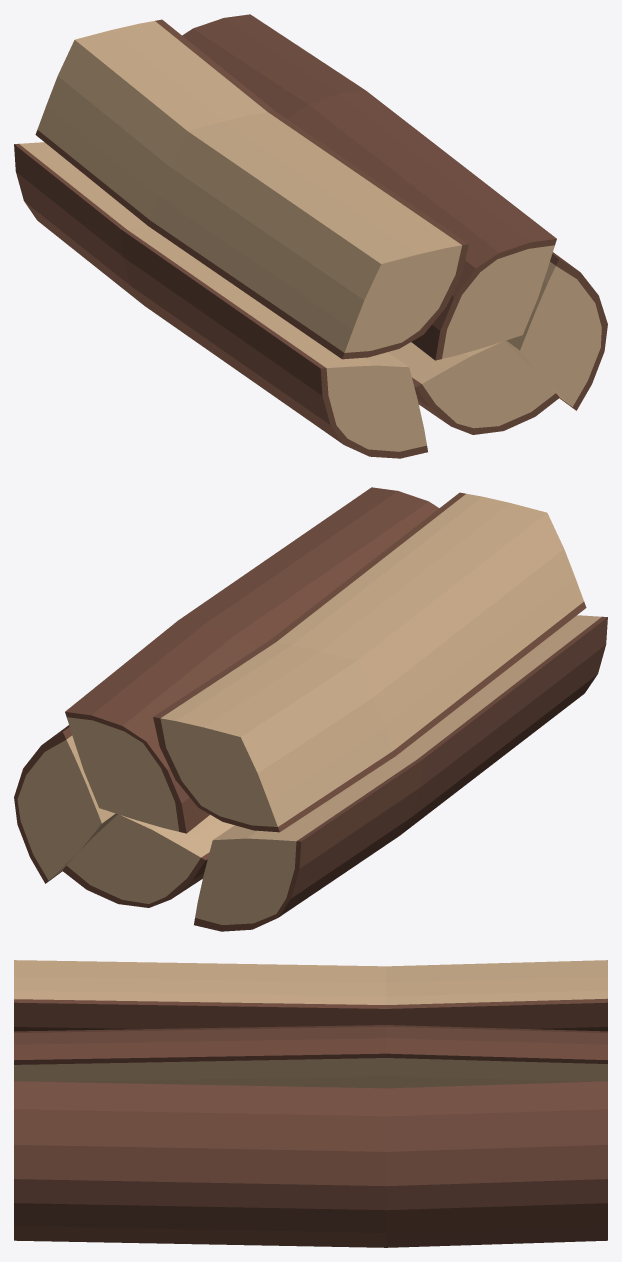
The model's file is WoodPile.fbx.
3 views of the same model, one above another, from view 1: azimuth 30°, elevation 25°; view 2: azimuth 150°, elevation 25°; view 3: azimuth 270°, elevation 25° (orthographic). The views are drawn at different scales.
Parts seen in each view (by area): view 1: Cube.010; view 2: Cube.010; view 3: Cube.010.
Part boxes in pixels (<box>): Cube.010: <box>14,14,607,458</box>; Cube.010: <box>14,487,607,931</box>; Cube.010: <box>14,960,607,1247</box>.
Size of the model in its own units: 153 by 98.13 by 271.
